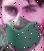with_mask: (1, 2, 44, 51)
